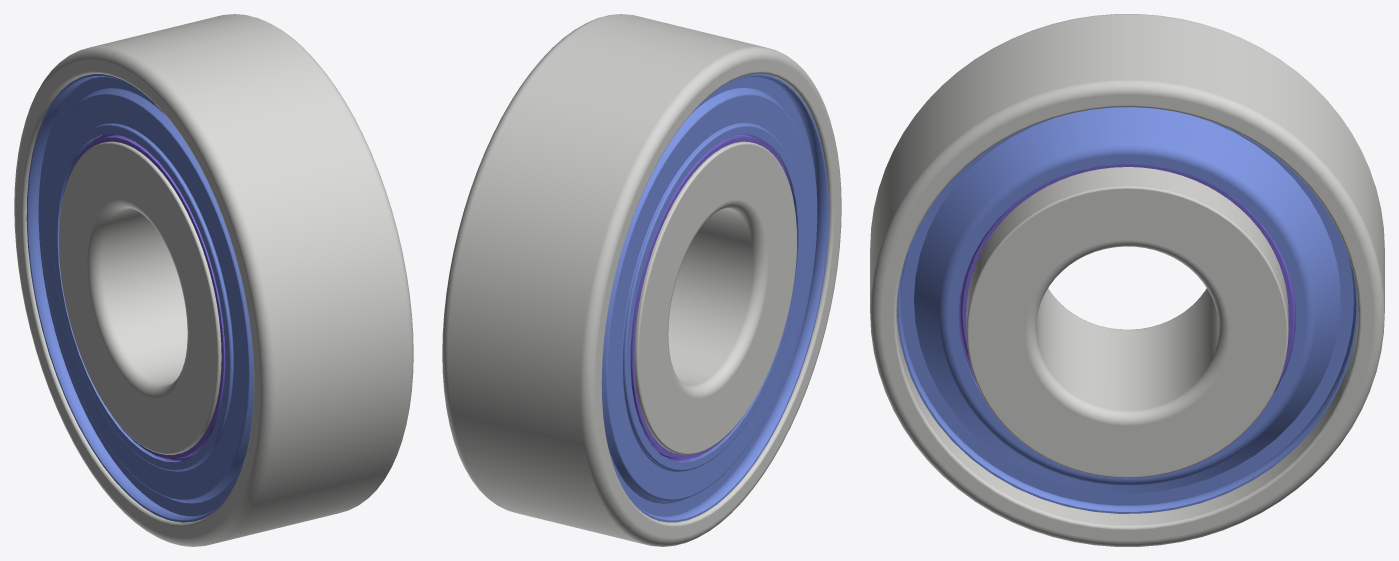
3 views of the same model, side by side, from view 1: azimuth 30°, elevation 25°; view 2: azimuth 150°, elevation 25°; view 3: azimuth 270°, elevation 25° (orthographic).
Parts seen in each view (by area): view 1: polished platinum, texture, texture-2; view 2: polished platinum, texture, texture-2; view 3: polished platinum, texture, texture-4.
Boxes of the visible parts, left/top/right/bottom form: polished platinum: left=14, top=14, right=413, bottom=546; texture: left=26, top=74, right=253, bottom=522; texture-2: left=61, top=134, right=225, bottom=461; polished platinum: left=442, top=14, right=841, bottom=546; texture: left=601, top=74, right=829, bottom=522; texture-2: left=630, top=134, right=795, bottom=461; polished platinum: left=870, top=14, right=1384, bottom=546; texture: left=896, top=107, right=1358, bottom=513; texture-4: left=958, top=164, right=1295, bottom=387.
Size of the model in its own units: 0.0187 by 0.0452 by 0.0452.
Materials: 6 (4 with a texture image).
